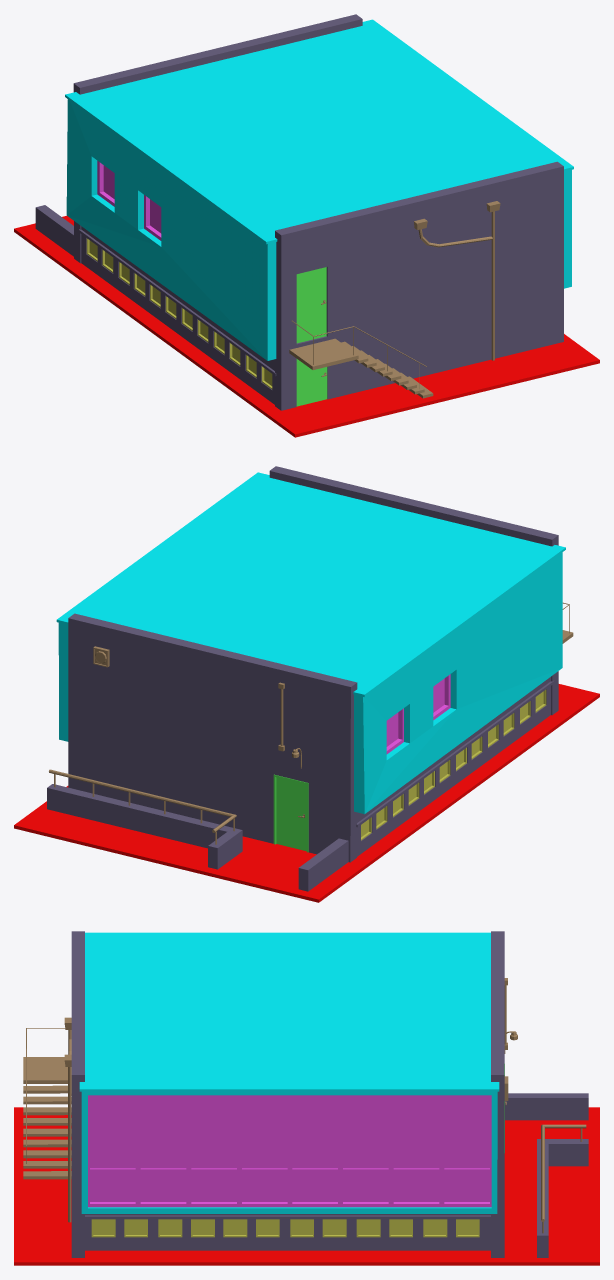
The model's file is urban_building.FBX.
3 renders of one model, top to bottom at view 1: azimuth 30°, elevation 25°; view 2: azimuth 150°, elevation 25°; view 3: azimuth 270°, elevation 25°, orthographic. The views are drawn at different scales.
Parts seen in each view (by area): view 1: urban_building; view 2: urban_building; view 3: urban_building.
Part boxes in pixels (x1,y1,x2,y2): urban_building: [14, 14, 599, 437]; urban_building: [14, 466, 599, 902]; urban_building: [14, 931, 599, 1265].
Bounding box in the file's own units: 1227 × 675 × 1924.
